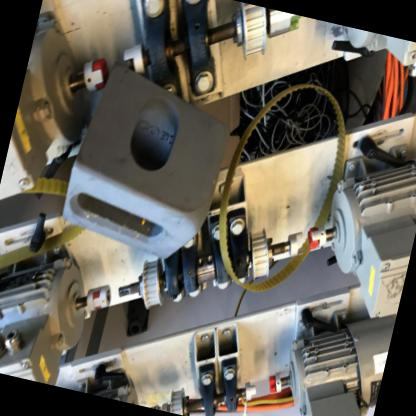CornerCasting: (54, 52, 244, 274)
